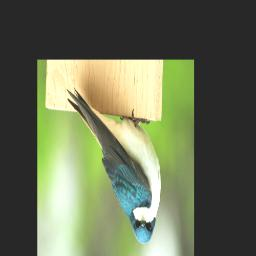Swallow: (65, 87, 162, 245)
